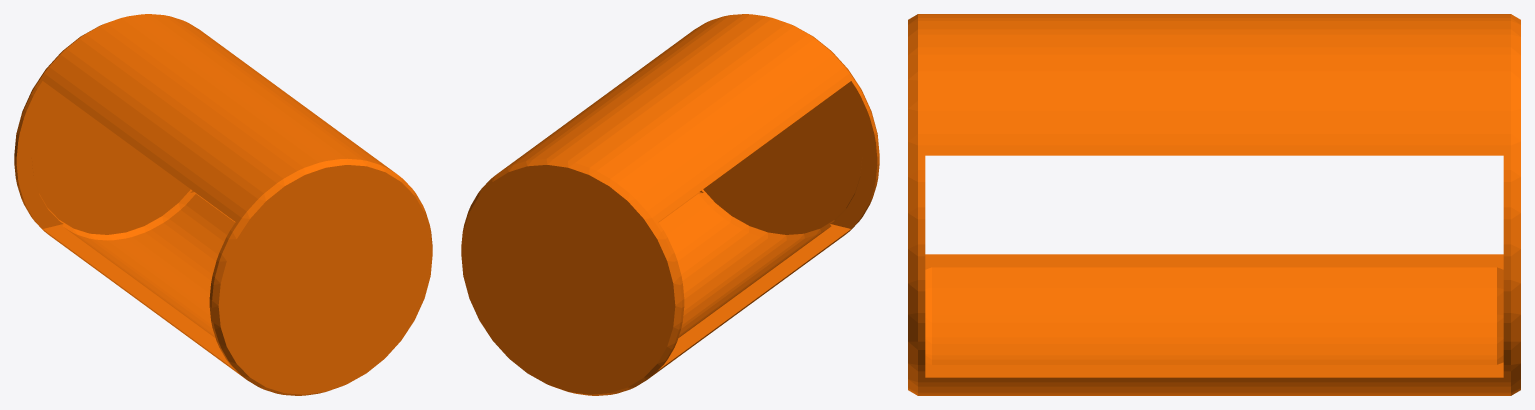
Rendered from door_frame.glb.
3 renders of one model, left to right at view 1: azimuth 30°, elevation 25°; view 2: azimuth 150°, elevation 25°; view 3: azimuth 270°, elevation 25°, orthographic. The views are drawn at different scales.
Parts seen in each view (by area): view 1: DoorFrame; view 2: DoorFrame; view 3: DoorFrame.
Part boxes in pixels (box(x1,y1,x2,y2)): DoorFrame: box(14, 14, 432, 395); DoorFrame: box(461, 14, 879, 395); DoorFrame: box(908, 14, 1520, 395).
Size of the model in its own units: 0.7975 by 0.7975 by 1.28.
